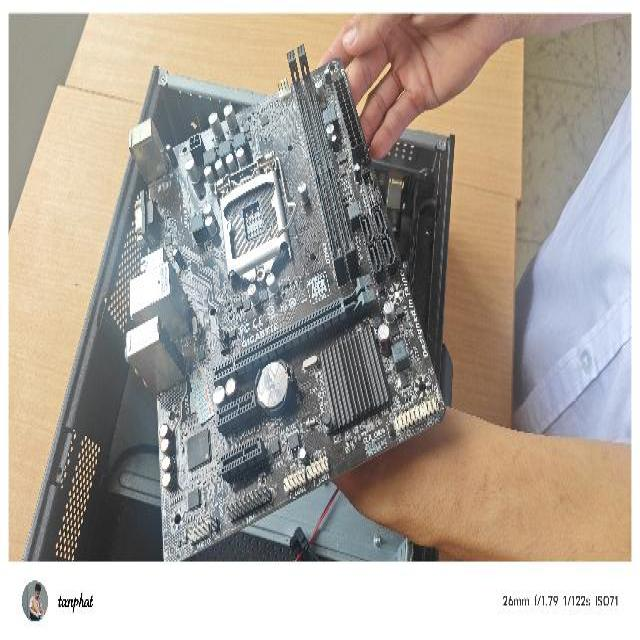Mainboard: (98, 35, 445, 561)
